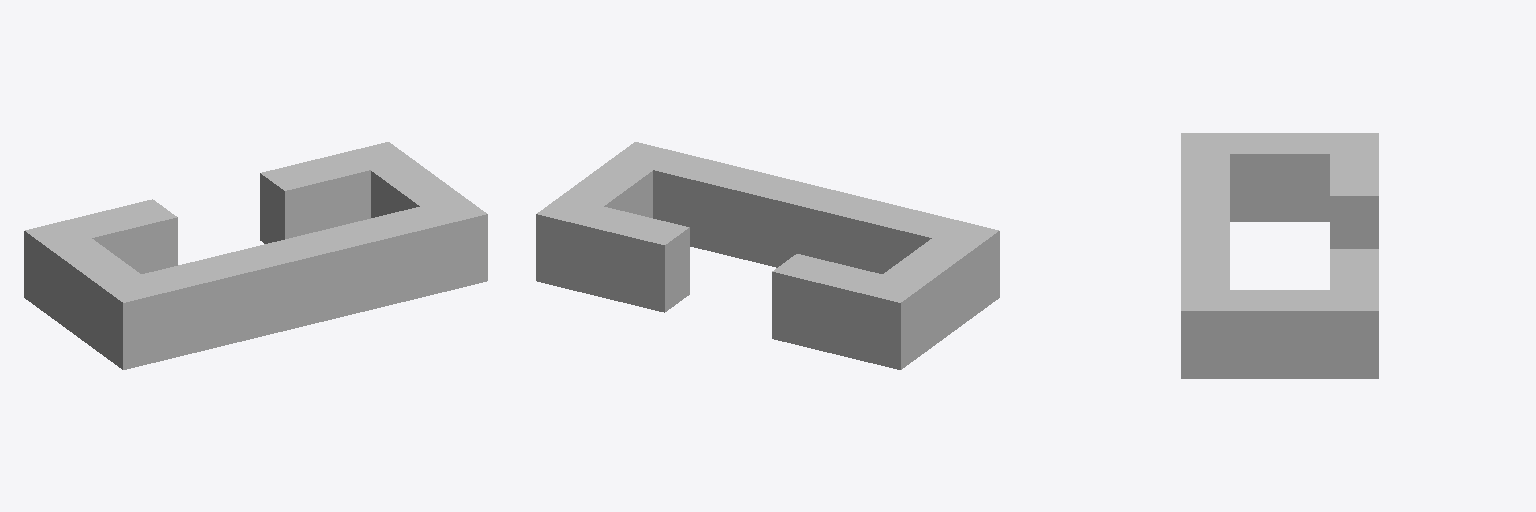
The model's file is corridor-c.obj.
The picture shows the model from 3 angles: view 1: azimuth 30°, elevation 25°; view 2: azimuth 150°, elevation 25°; view 3: azimuth 270°, elevation 25°; orthographic projection.
Parts seen in each view (by area): view 1: Cube_Cube.001; view 2: Cube_Cube.001; view 3: Cube_Cube.001.
Part boxes in pixels (x1,y1,x2,y2): Cube_Cube.001: (24, 142, 487, 369); Cube_Cube.001: (536, 142, 999, 369); Cube_Cube.001: (1181, 133, 1378, 378).
Size of the model in its own units: 17 by 3 by 8.